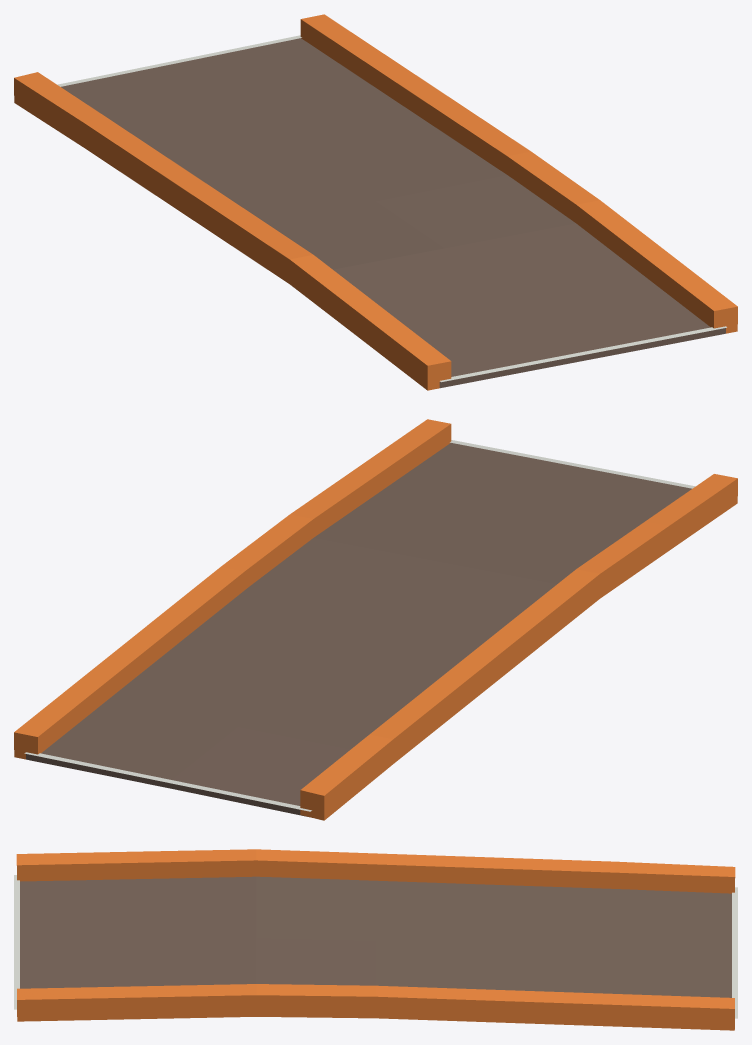
Rendered from SM_MP_Film_B_0_1.fbx.
3 views of the same model, one above another, from view 1: azimuth 30°, elevation 25°; view 2: azimuth 150°, elevation 25°; view 3: azimuth 270°, elevation 25° (orthographic). The views are drawn at different scales.
Visible parts, largest first — view 1: SM_MP_Film_B_0_1; view 2: SM_MP_Film_B_0_1; view 3: SM_MP_Film_B_0_1.
Part boxes in pixels (x1,y1,x2,y2): SM_MP_Film_B_0_1: (14,14,737,390); SM_MP_Film_B_0_1: (14,419,737,820); SM_MP_Film_B_0_1: (14,849,737,1030).
Size of what is drawn, in the model's own units: 260 by 605 by 45.97.
